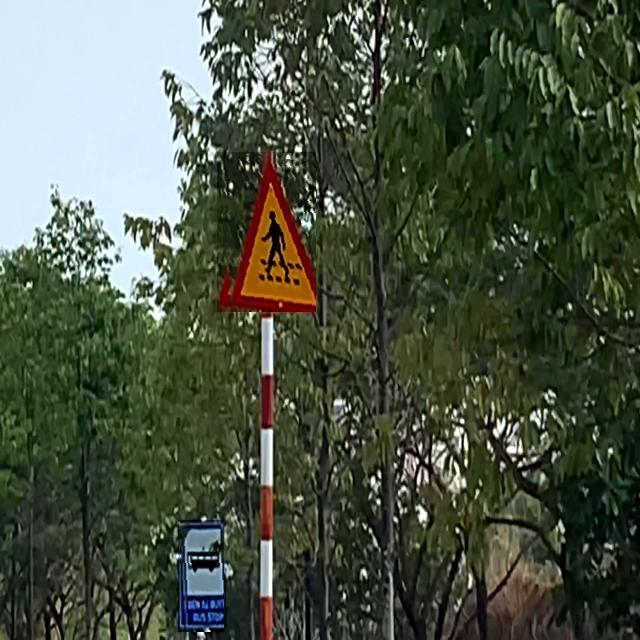R-434: (178, 520, 224, 632)
W-224: (217, 153, 316, 313)
